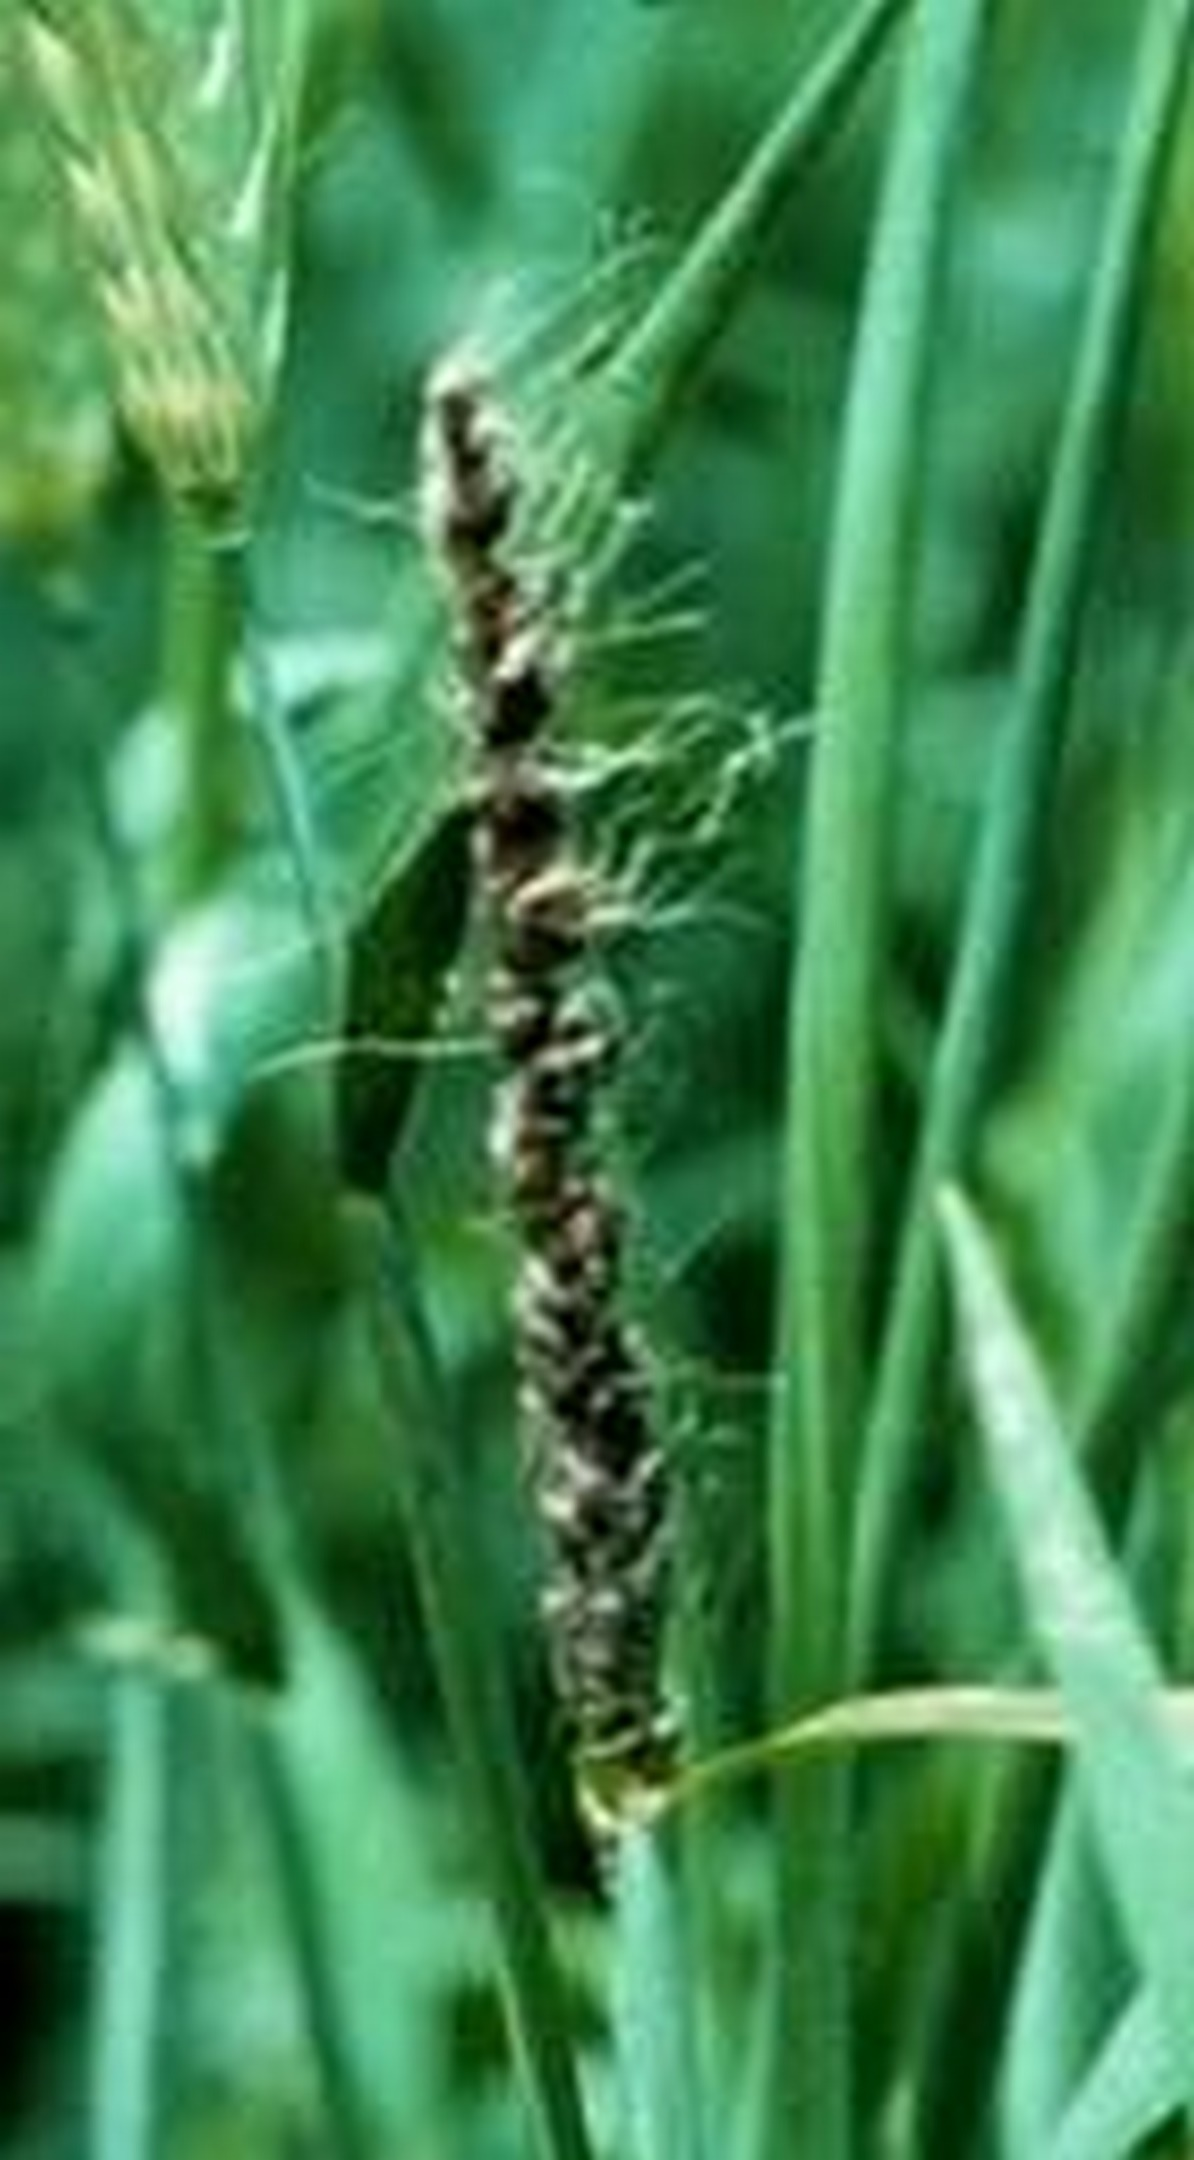Wheat Loose Smut: (403, 354, 754, 1784)
